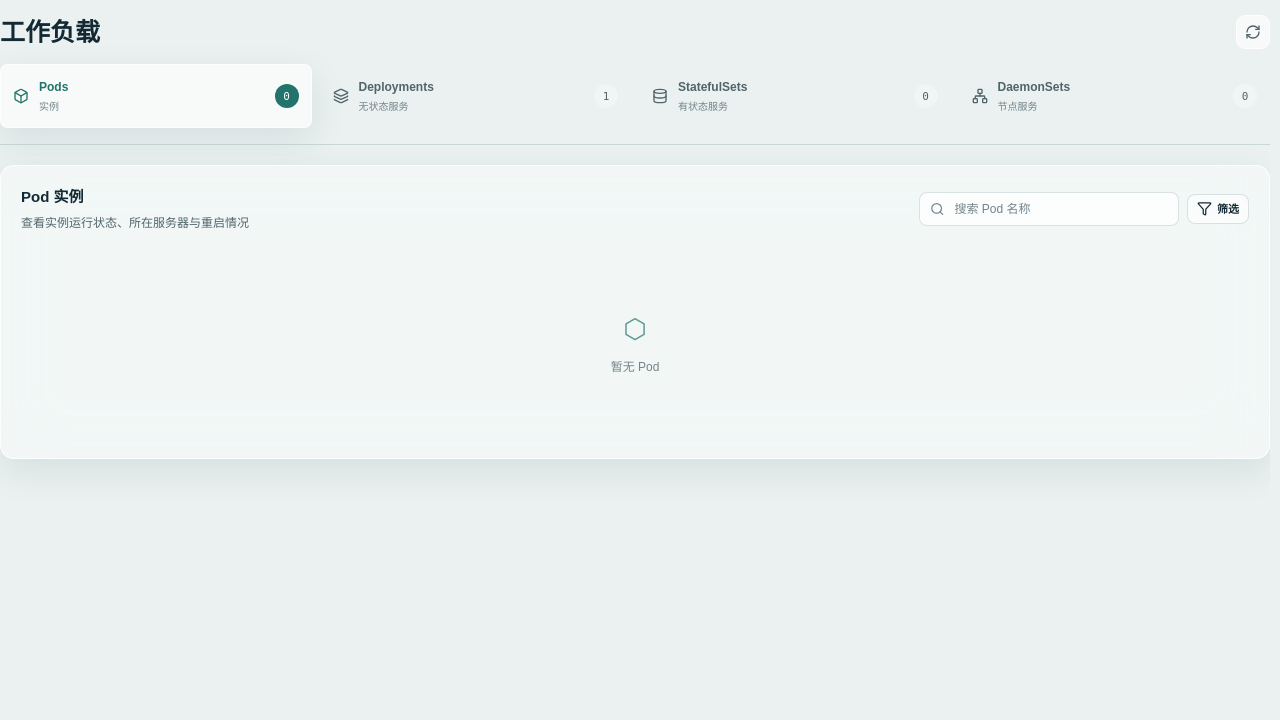
Test: Workloads view › keeps the image dialog open when updating an image fails
This screenshot has width=1280, height=720.
Step 1. Click the button with class "resource-tab" showing "Deployments 无状态服务 1" → (396, 87), box [320,64,631,128]
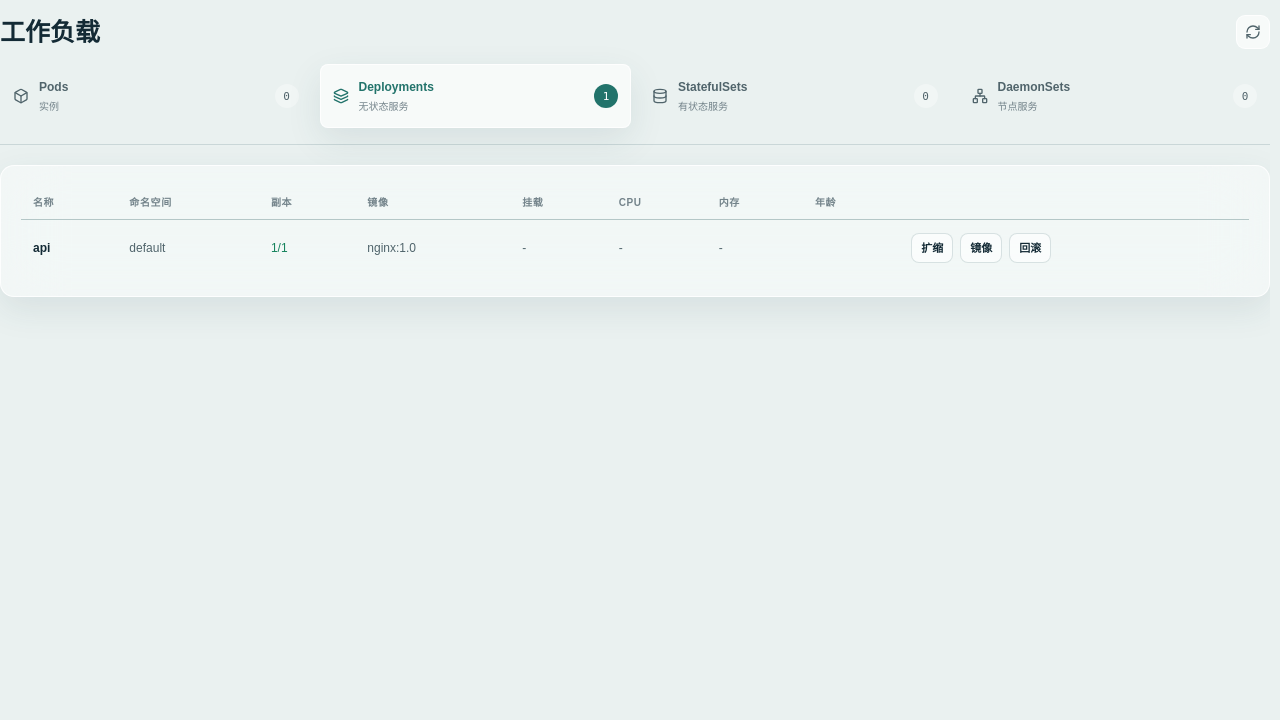
Step 2. Click the button "镜像" → (981, 248), box [960,233,1002,263]
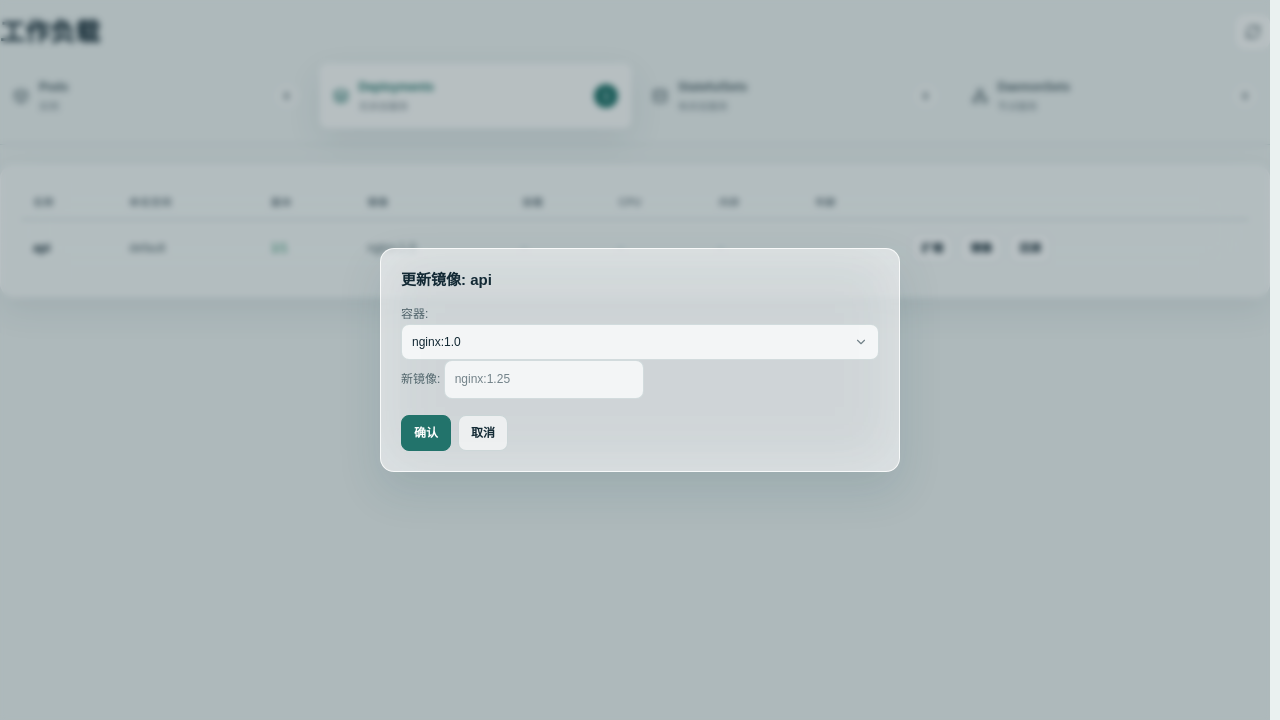
Step 3. Click the button "确认" → (426, 433), box [401,415,451,451]
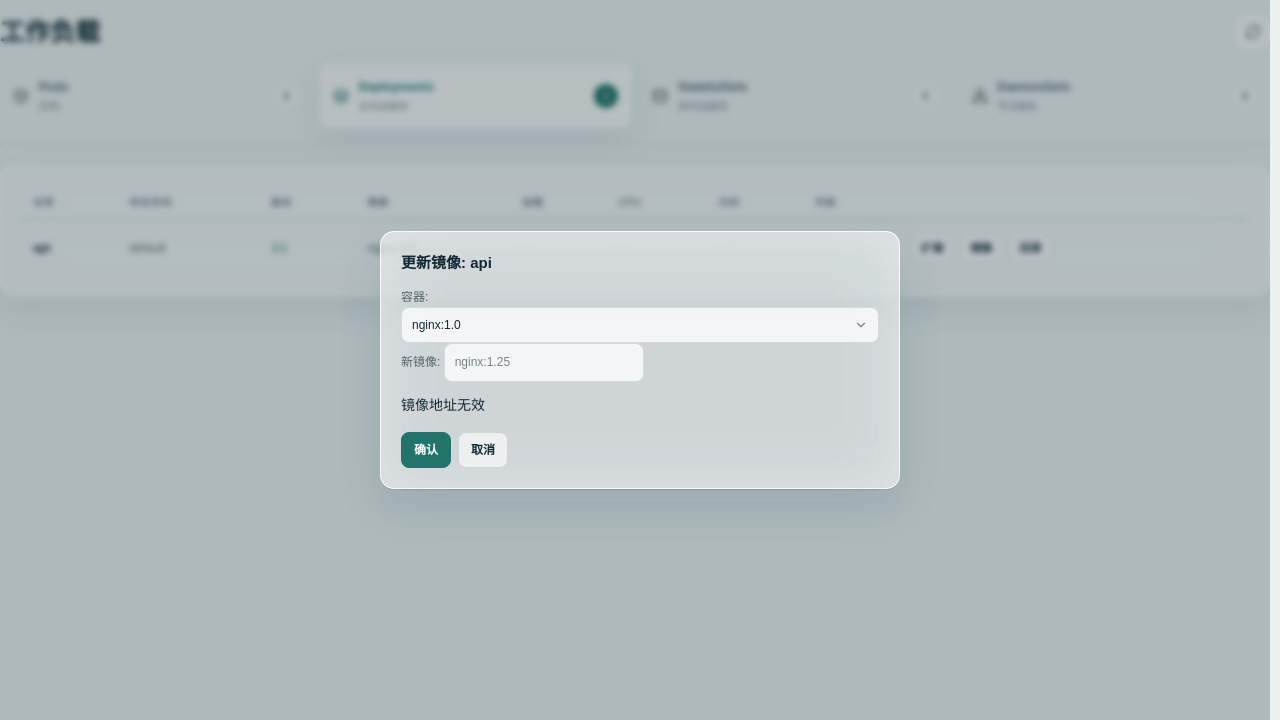
Expected: the element with class "modal" is shown, [380,231,900,489]
Expected: the text "镜像地址无效" is shown, [401,397,485,413]
